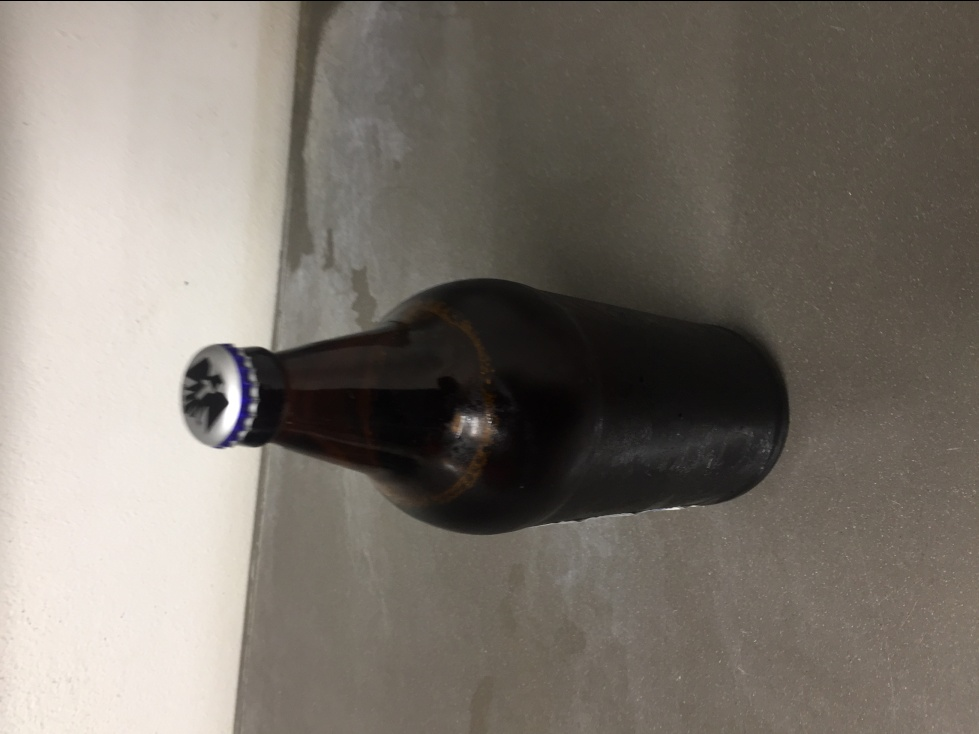tecateC: (181, 280, 792, 538)
